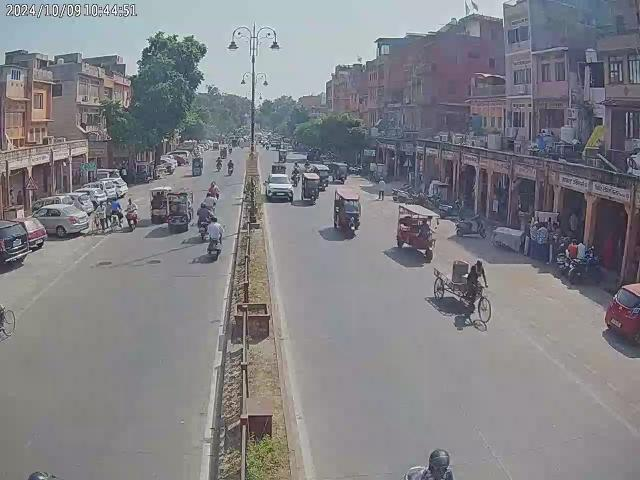auto: (396, 202, 439, 260), (332, 186, 362, 238), (168, 188, 193, 234), (150, 184, 170, 222), (301, 170, 321, 206), (308, 163, 330, 185), (328, 162, 348, 184), (192, 156, 202, 176)
bicycle-rider: (91, 200, 108, 234), (109, 196, 123, 231)
car: (0, 208, 48, 271), (604, 268, 640, 348), (29, 199, 92, 238), (83, 176, 127, 198), (265, 172, 293, 200)
motorbike: (568, 250, 602, 284)
motorbike-rider: (206, 216, 226, 260), (197, 201, 212, 236)
person: (378, 176, 386, 200)
rickshow: (432, 257, 492, 332)
scooty: (456, 213, 487, 240)
scooty-rider: (124, 196, 140, 231)
